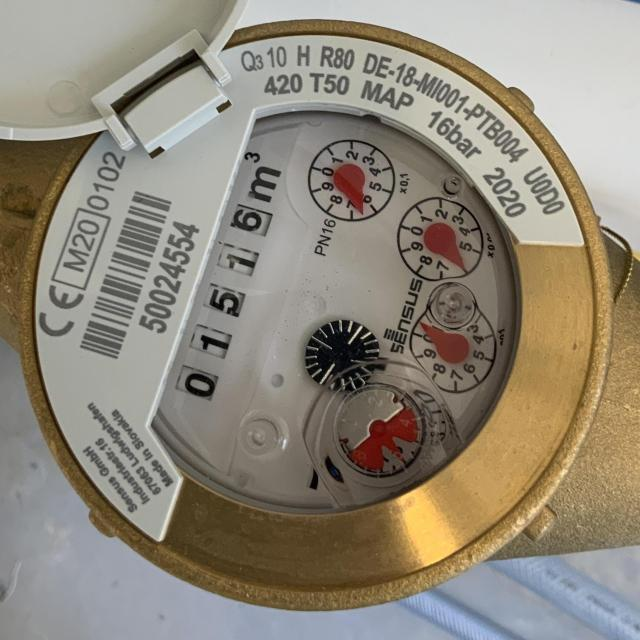gaz_meter: (36, 32, 596, 591)
indication: (162, 192, 291, 426)
